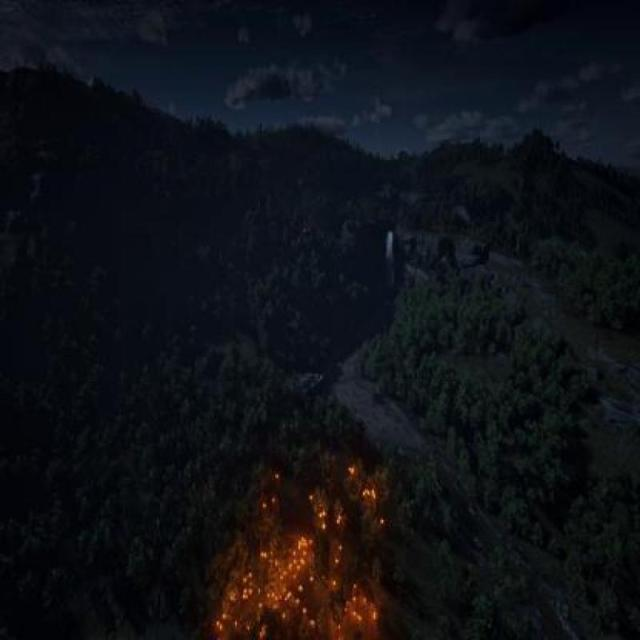Fire: (192, 460, 398, 640)
